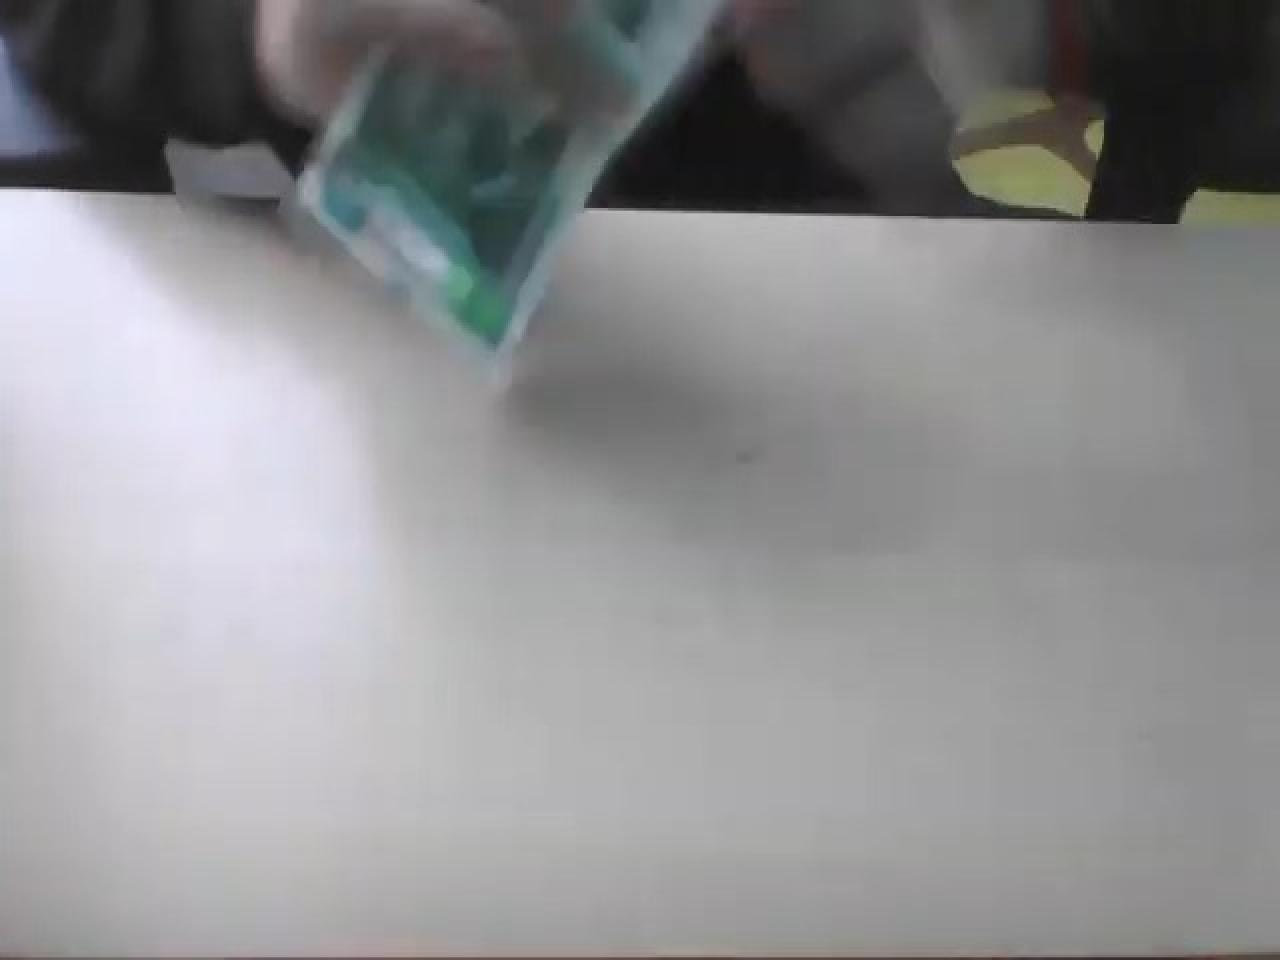100leva: (294, 31, 580, 357)
